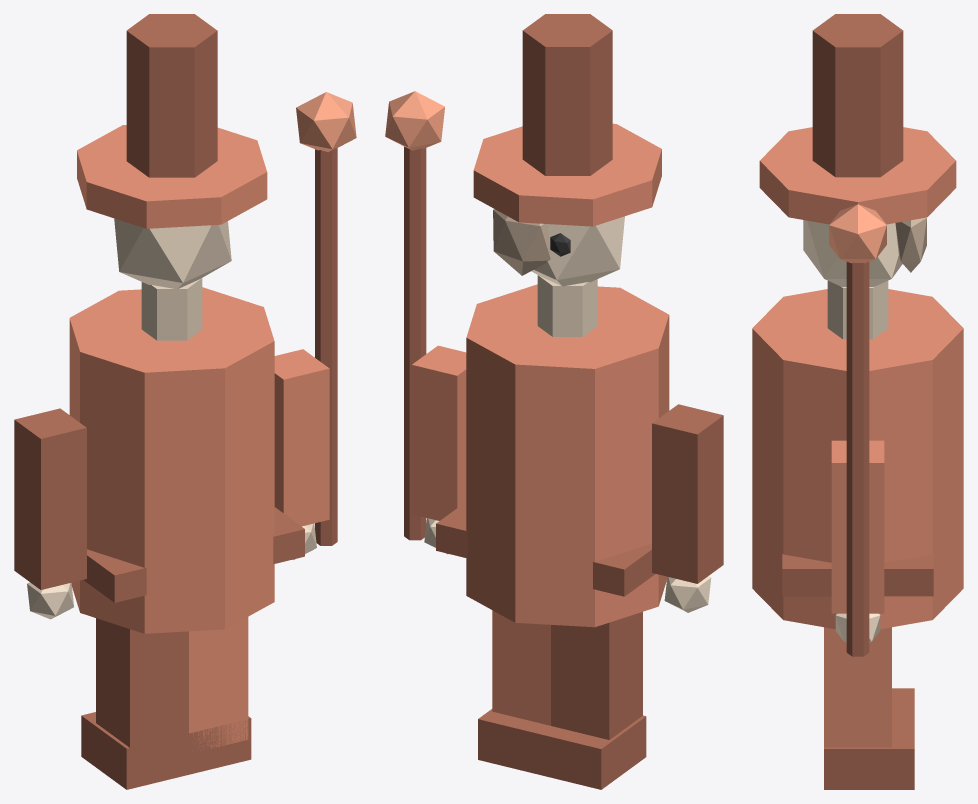
File: firemage.glb
3 views of the same model, side by side, from view 1: azimuth 30°, elevation 25°; view 2: azimuth 150°, elevation 25°; view 3: azimuth 270°, elevation 25° (orthographic).
Parts seen in each view (by area): view 1: firemage; view 2: firemage; view 3: firemage.
Boxes of the visible parts, bbox=[...] form: firemage: bbox=[14, 14, 356, 789]; firemage: bbox=[385, 14, 723, 789]; firemage: bbox=[752, 14, 963, 789].
Size of the model in its own units: 0.9905 by 2.13 by 0.56.
